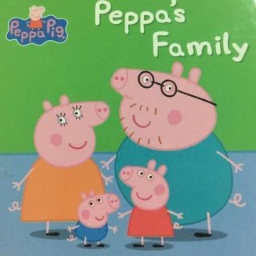Peppa: (116, 160, 184, 248)
